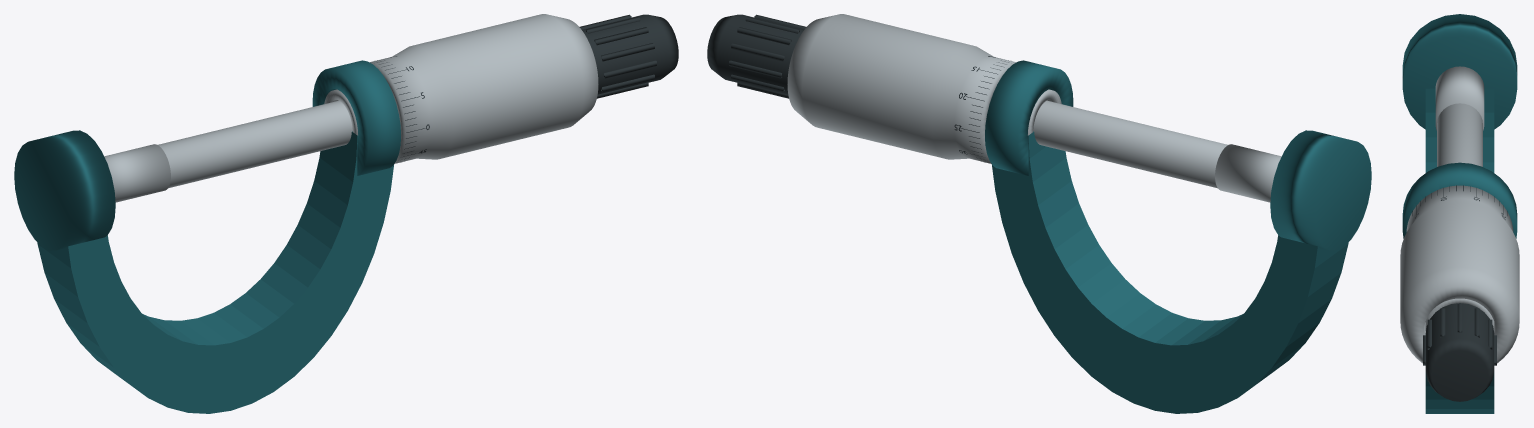
The model's file is VLAB_micrometer.fbx.
3 renders of one model, left to right at view 1: azimuth 30°, elevation 25°; view 2: azimuth 150°, elevation 25°; view 3: azimuth 270°, elevation 25°, orthographic. The views are drawn at different scales.
Visible parts, largest first — view 1: VLAB_micrometer_Frame_VIS, VLAB_micrometer_Thimble_VIS, VLAB_micrometer_Spindle_VIS, VLAB_micrometer_Ratchet_VIS, VLAB_micrometer_Anvil_VIS; view 2: VLAB_micrometer_Frame_VIS, VLAB_micrometer_Thimble_VIS, VLAB_micrometer_Spindle_VIS, VLAB_micrometer_Ratchet_VIS, VLAB_micrometer_Anvil_VIS; view 3: VLAB_micrometer_Thimble_VIS, VLAB_micrometer_Frame_VIS, VLAB_micrometer_Ratchet_VIS, VLAB_micrometer_Spindle_VIS, VLAB_micrometer_Anvil_VIS, VLAB_micrometer_Sleeve_VIS.
Boxes of the visible parts, x1,y1,x2,y2 form: VLAB_micrometer_Frame_VIS: [14, 60, 400, 413]; VLAB_micrometer_Thimble_VIS: [370, 14, 598, 163]; VLAB_micrometer_Spindle_VIS: [158, 100, 352, 188]; VLAB_micrometer_Ratchet_VIS: [579, 14, 678, 98]; VLAB_micrometer_Anvil_VIS: [104, 144, 170, 202]; VLAB_micrometer_Frame_VIS: [985, 60, 1371, 413]; VLAB_micrometer_Thimble_VIS: [787, 14, 1015, 163]; VLAB_micrometer_Spindle_VIS: [1033, 100, 1227, 188]; VLAB_micrometer_Ratchet_VIS: [707, 14, 806, 98]; VLAB_micrometer_Anvil_VIS: [1215, 144, 1281, 202]; VLAB_micrometer_Thimble_VIS: [1400, 185, 1519, 363]; VLAB_micrometer_Frame_VIS: [1402, 14, 1517, 413]; VLAB_micrometer_Ratchet_VIS: [1423, 303, 1496, 401]; VLAB_micrometer_Spindle_VIS: [1437, 103, 1482, 166]; VLAB_micrometer_Anvil_VIS: [1435, 66, 1484, 130]; VLAB_micrometer_Sleeve_VIS: [1425, 298, 1494, 330].
Bounding box in the file's own units: 0.096 × 0.0438 × 0.0156.
